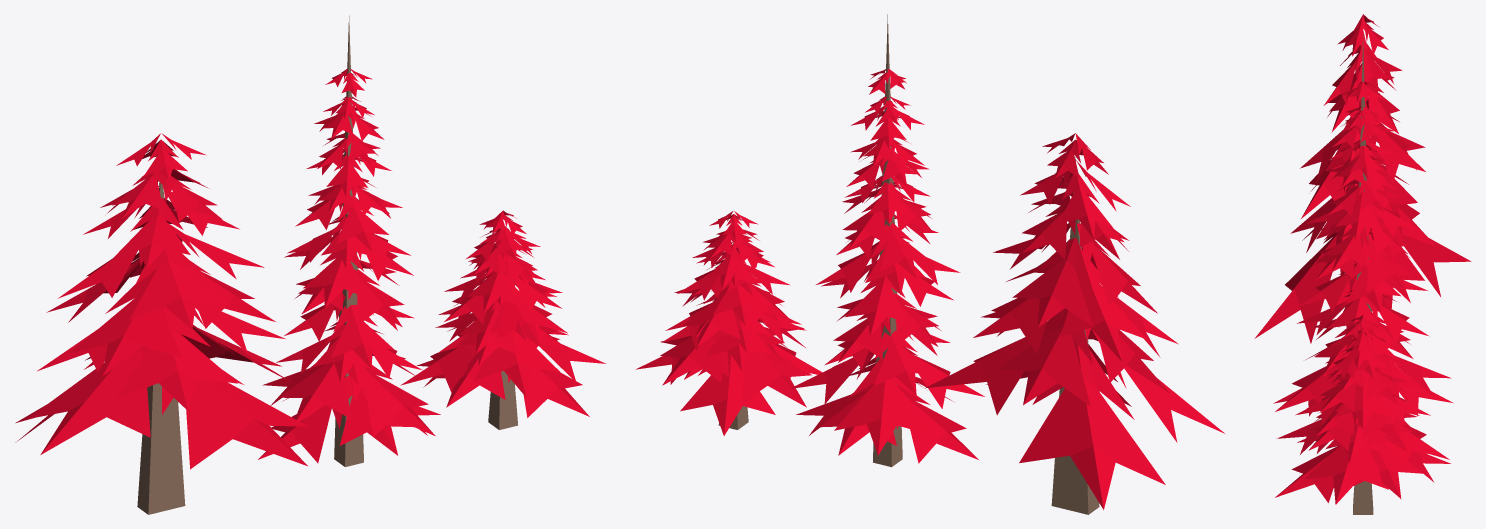
The model's file is trees_spiky.fbx.
3 renders of one model, left to right at view 1: azimuth 30°, elevation 25°; view 2: azimuth 150°, elevation 25°; view 3: azimuth 270°, elevation 25°, orthographic. The views are drawn at different scales.
Parts seen in each view (by area): view 1: Plane.002, Plane.000, Plane.013, Plane.003, Plane.001, Cube.002, Cube, Cube.001; view 2: Plane.002, Plane.000, Plane.013, Plane.003, Plane.001, Cube.002, Cube; view 3: Plane.002, Plane.000, Plane.003, Plane.013, Plane.001, Cube.001, Cube.
Boxes of the visible parts, x1,y1,x2,y2 form: Plane.002: [15, 133, 307, 469]; Plane.000: [262, 69, 435, 437]; Plane.013: [258, 96, 440, 463]; Plane.003: [400, 210, 605, 397]; Plane.001: [417, 229, 589, 417]; Cube.002: [137, 182, 185, 514]; Cube: [334, 15, 363, 466]; Cube.001: [488, 371, 518, 429]; Plane.002: [925, 133, 1224, 509]; Plane.000: [790, 69, 984, 455]; Plane.013: [796, 96, 978, 463]; Plane.003: [660, 211, 811, 407]; Plane.001: [635, 231, 822, 435]; Cube.002: [1051, 157, 1099, 514]; Cube: [873, 14, 902, 467]; Plane.002: [1254, 14, 1471, 343]; Plane.000: [1275, 81, 1451, 411]; Plane.003: [1276, 315, 1449, 504]; Plane.013: [1273, 106, 1453, 416]; Plane.001: [1275, 330, 1450, 502]; Cube.001: [1353, 481, 1373, 514]; Cube: [1357, 34, 1369, 309].
Bounding box in the file's own units: 2246 × 1696 × 816.
